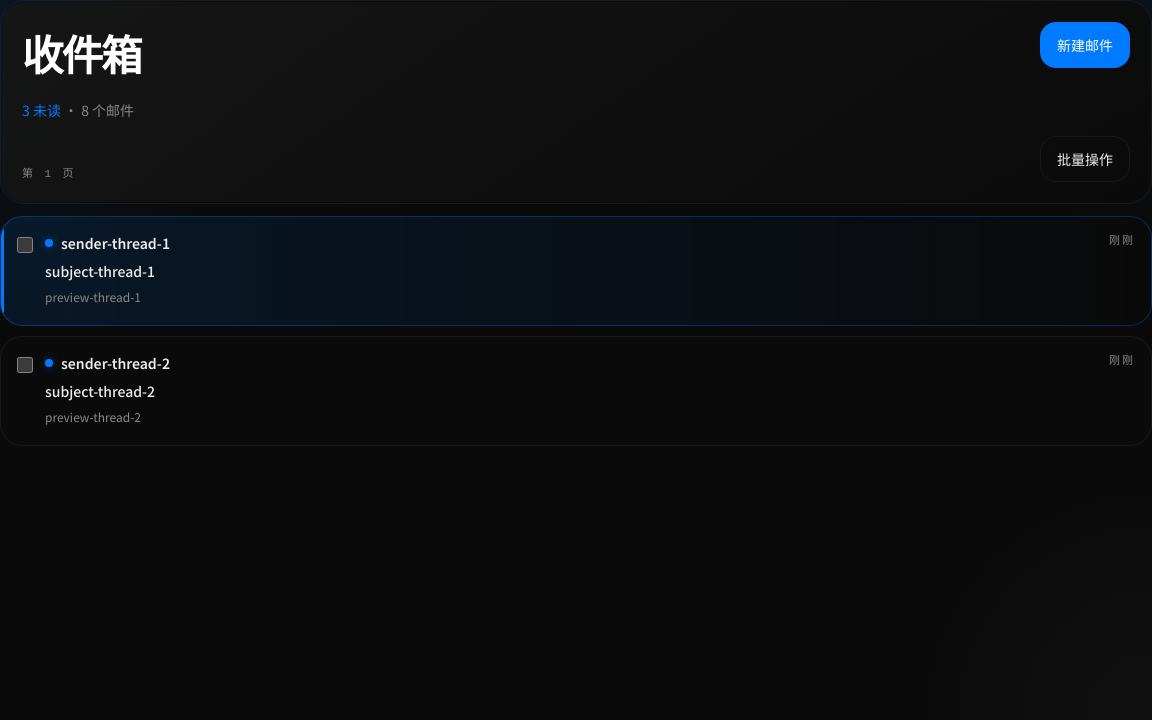
mail-actions › keeps the bulk action bar multi-select for inbox and uses mail wording
Expected: the button "批量操作" is shown, [1040,136,1130,182]
Click the checkbox with test id "thread-select-thread-1" at (25, 245), box [17,237,33,253]
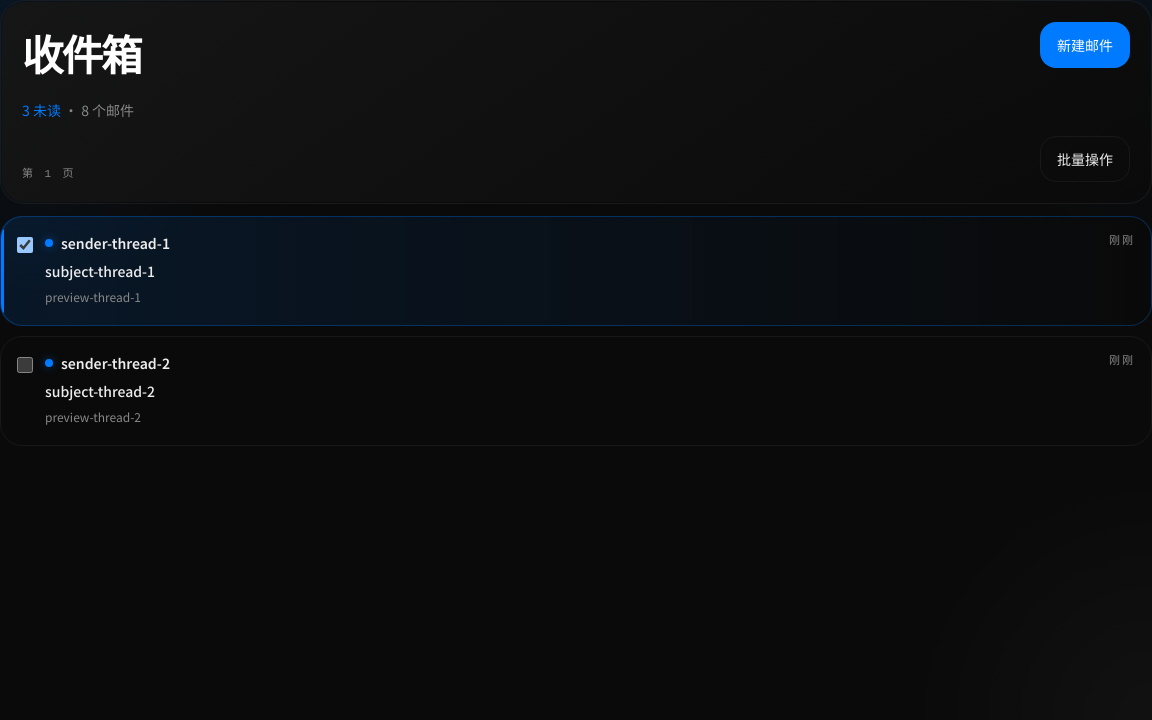
Click the checkbox with test id "thread-select-thread-2" at (25, 365), box [17,357,33,373]
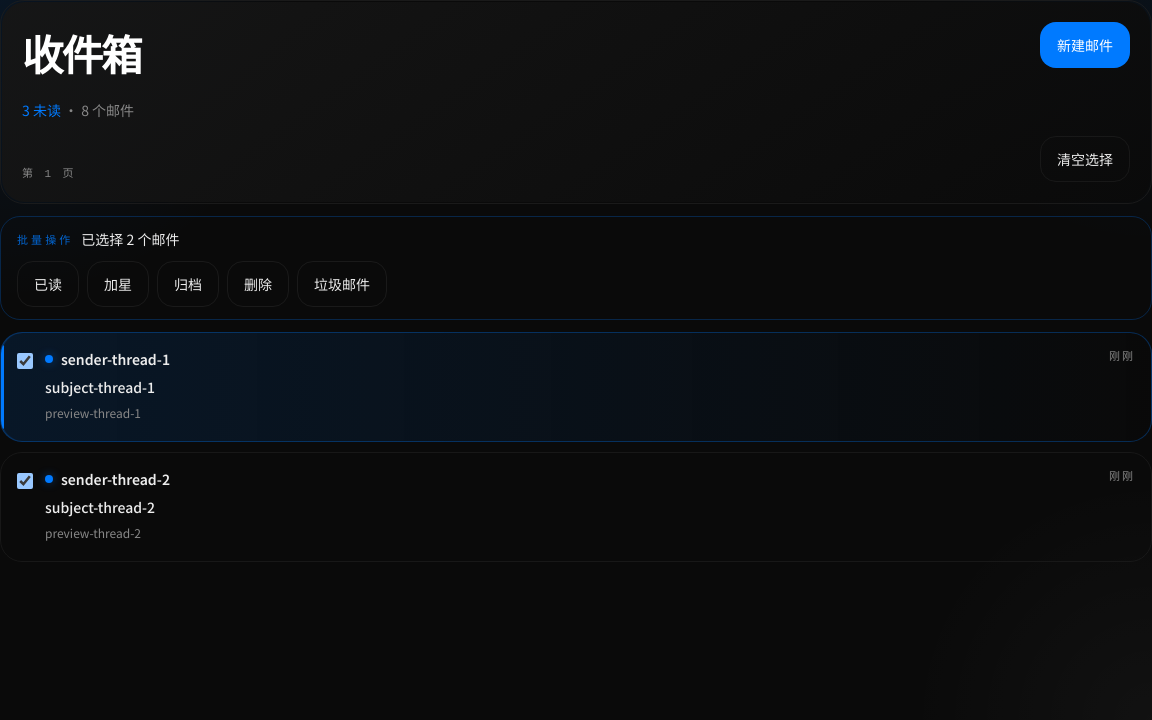
Now the element with test id "thread-bulk-bar" is shown, box [0,216,1151,320]
Now the text "已选择 2 个邮件" is shown, box [81,229,179,249]
Now the button with test id "action-mark-read" reads "已读", box [17,261,79,307]
